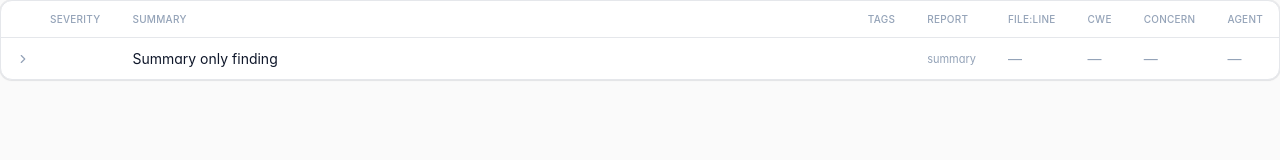
Test case: FindingsTable — expanded detail › expands a summary row to the evidence panel, not the triage card
Click the button named "Expand row": (23, 58) x1=13 y1=48 x2=33 y2=68
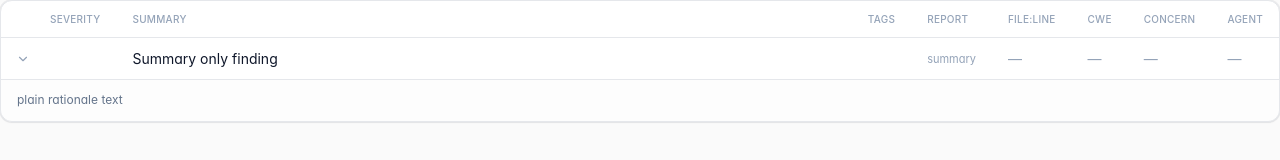
Now the text "plain rationale text" is shown, box x1=17 y1=92 x2=123 y2=107
